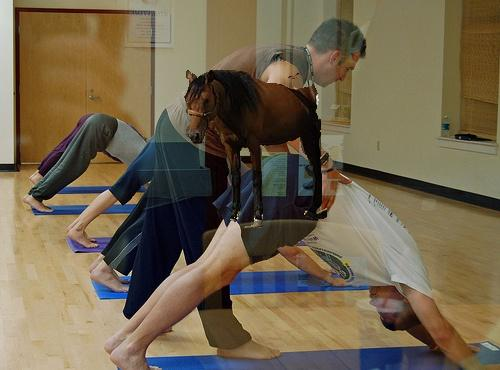tampered: (185, 71, 327, 228)
